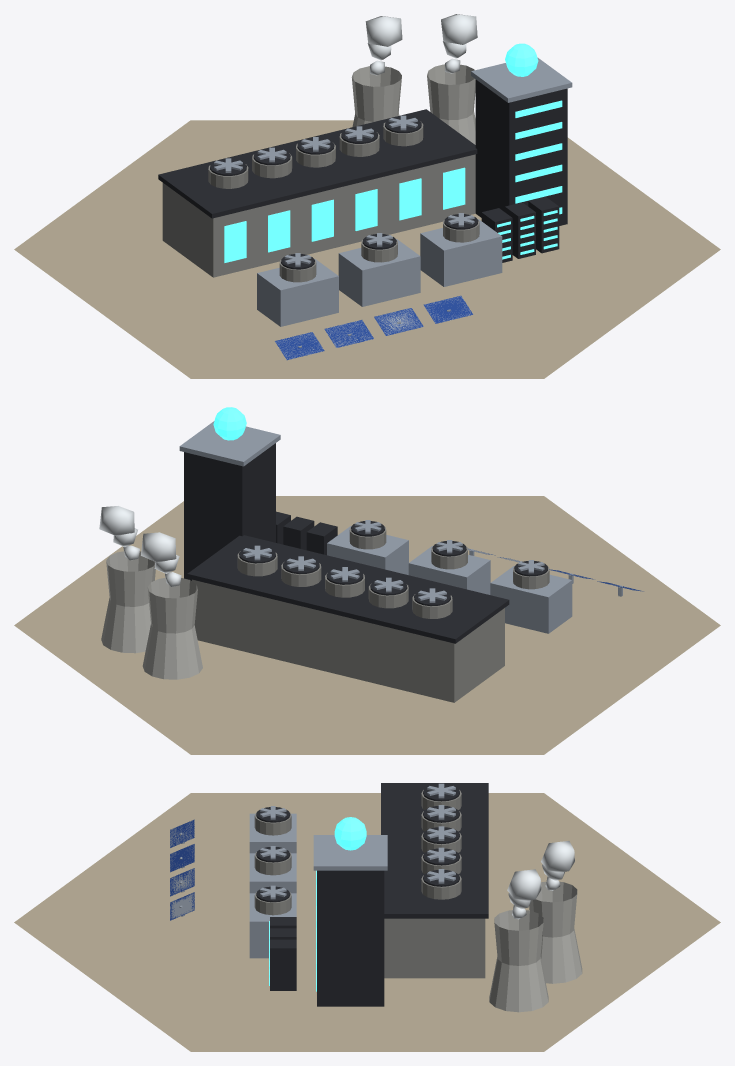
Rendered from district_datacenter_3.fbx.
The picture shows the model from 3 angles, top to bottom: view 1: azimuth 30°, elevation 25°; view 2: azimuth 150°, elevation 25°; view 3: azimuth 270°, elevation 25°; orthographic projection.
Parts seen in each view (by area): view 1: district_datacenter_3; view 2: district_datacenter_3; view 3: district_datacenter_3.
Boxes of the visible parts, x1,y1,x2,y2 form: district_datacenter_3: (14, 14, 720, 378); district_datacenter_3: (14, 407, 720, 754); district_datacenter_3: (14, 783, 720, 1051).
Bounding box in the file's own units: 182 × 57.4 × 210.
